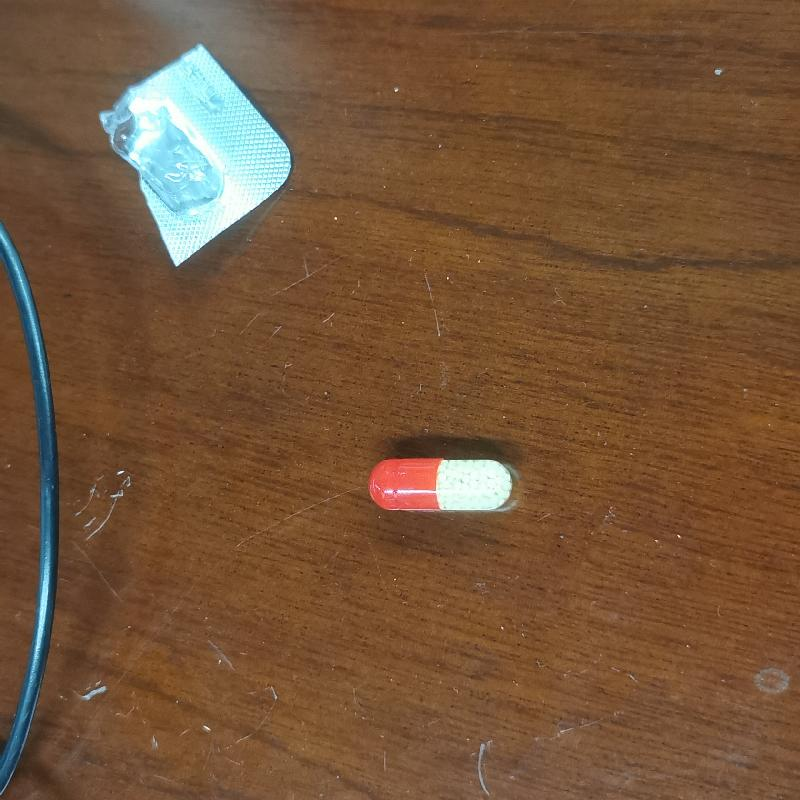pills: (352, 453, 529, 524)
